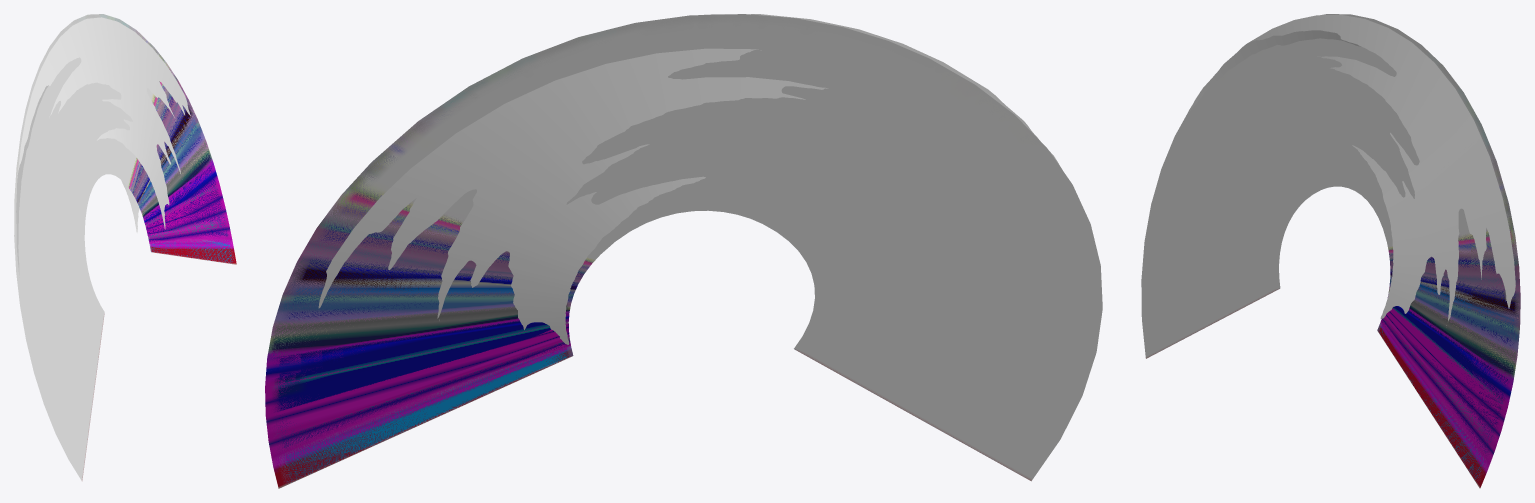
The model's file is fx_cookie0134_skill001.fbx.
The picture shows the model from 3 angles, left to right: view 1: azimuth 30°, elevation 25°; view 2: azimuth 150°, elevation 25°; view 3: azimuth 270°, elevation 25°; orthographic projection. The views are drawn at different scales.
Visible parts, largest first — view 1: L_scratch, L_scratch2; view 2: L_scratch, L_scratch2; view 3: L_scratch, L_scratch2.
Part boxes in pixels (x1,y1,x2,y2): L_scratch: (14, 14, 236, 481); L_scratch2: (16, 17, 190, 277); L_scratch: (265, 14, 1102, 488); L_scratch2: (318, 14, 1062, 344); L_scratch: (1141, 14, 1520, 488); L_scratch2: (1187, 14, 1515, 325).
Bounding box in the file's own units: 490 × 461 × 415.
